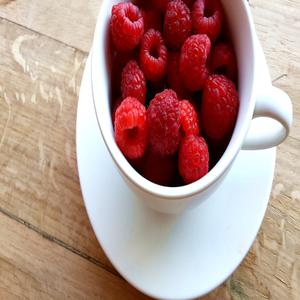raspb: (109, 2, 233, 175)
